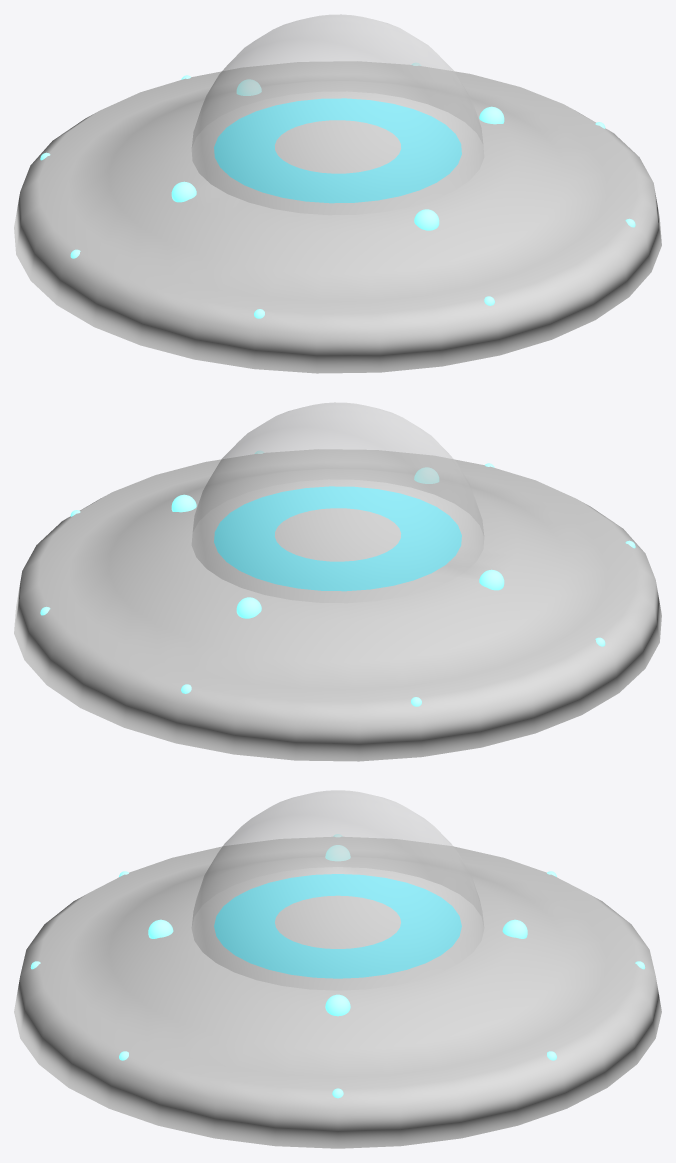
The model's file is asset.glb.
3 renders of one model, top to bottom at view 1: azimuth 30°, elevation 25°; view 2: azimuth 150°, elevation 25°; view 3: azimuth 270°, elevation 25°, orthographic.
Visible parts, largest first — view 1: Sphere, Sphere.001; view 2: Sphere, Sphere.001; view 3: Sphere, Sphere.001.
Boxes of the visible parts, left/top/right/bottom form: Sphere: left=14, top=61, right=661, bottom=373; Sphere.001: left=191, top=14, right=483, bottom=214; Sphere: left=14, top=449, right=661, bottom=761; Sphere.001: left=192, top=402, right=484, bottom=602; Sphere: left=14, top=837, right=661, bottom=1148; Sphere.001: left=191, top=790, right=484, bottom=990.
Bounding box in the file's own units: 8.55 × 3.03 × 8.55.
